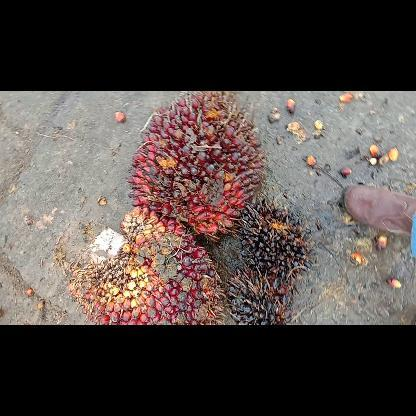TBS abnormal: (233, 198, 312, 280), (222, 264, 300, 324)
TBS masak: (124, 91, 268, 243), (67, 206, 224, 324)
